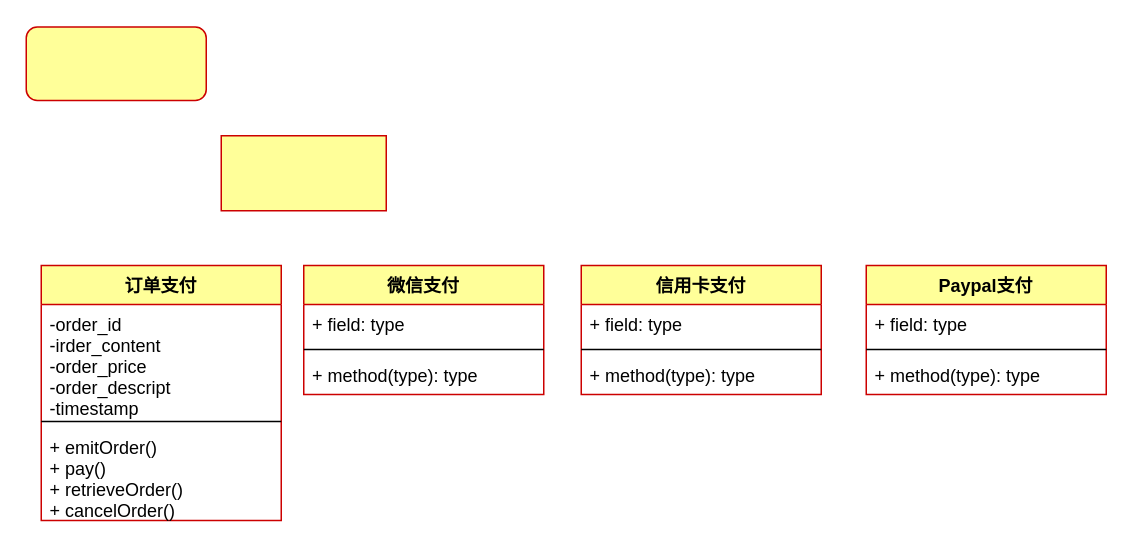
This 1133x551 diagram has some shape labels left out. The shapes that lost their labels are listed below. From the top down, each one's centre as x and y in pixels, then its label:
point 115,63: 订单支付界面
point 303,172: «interface» 支付接口
